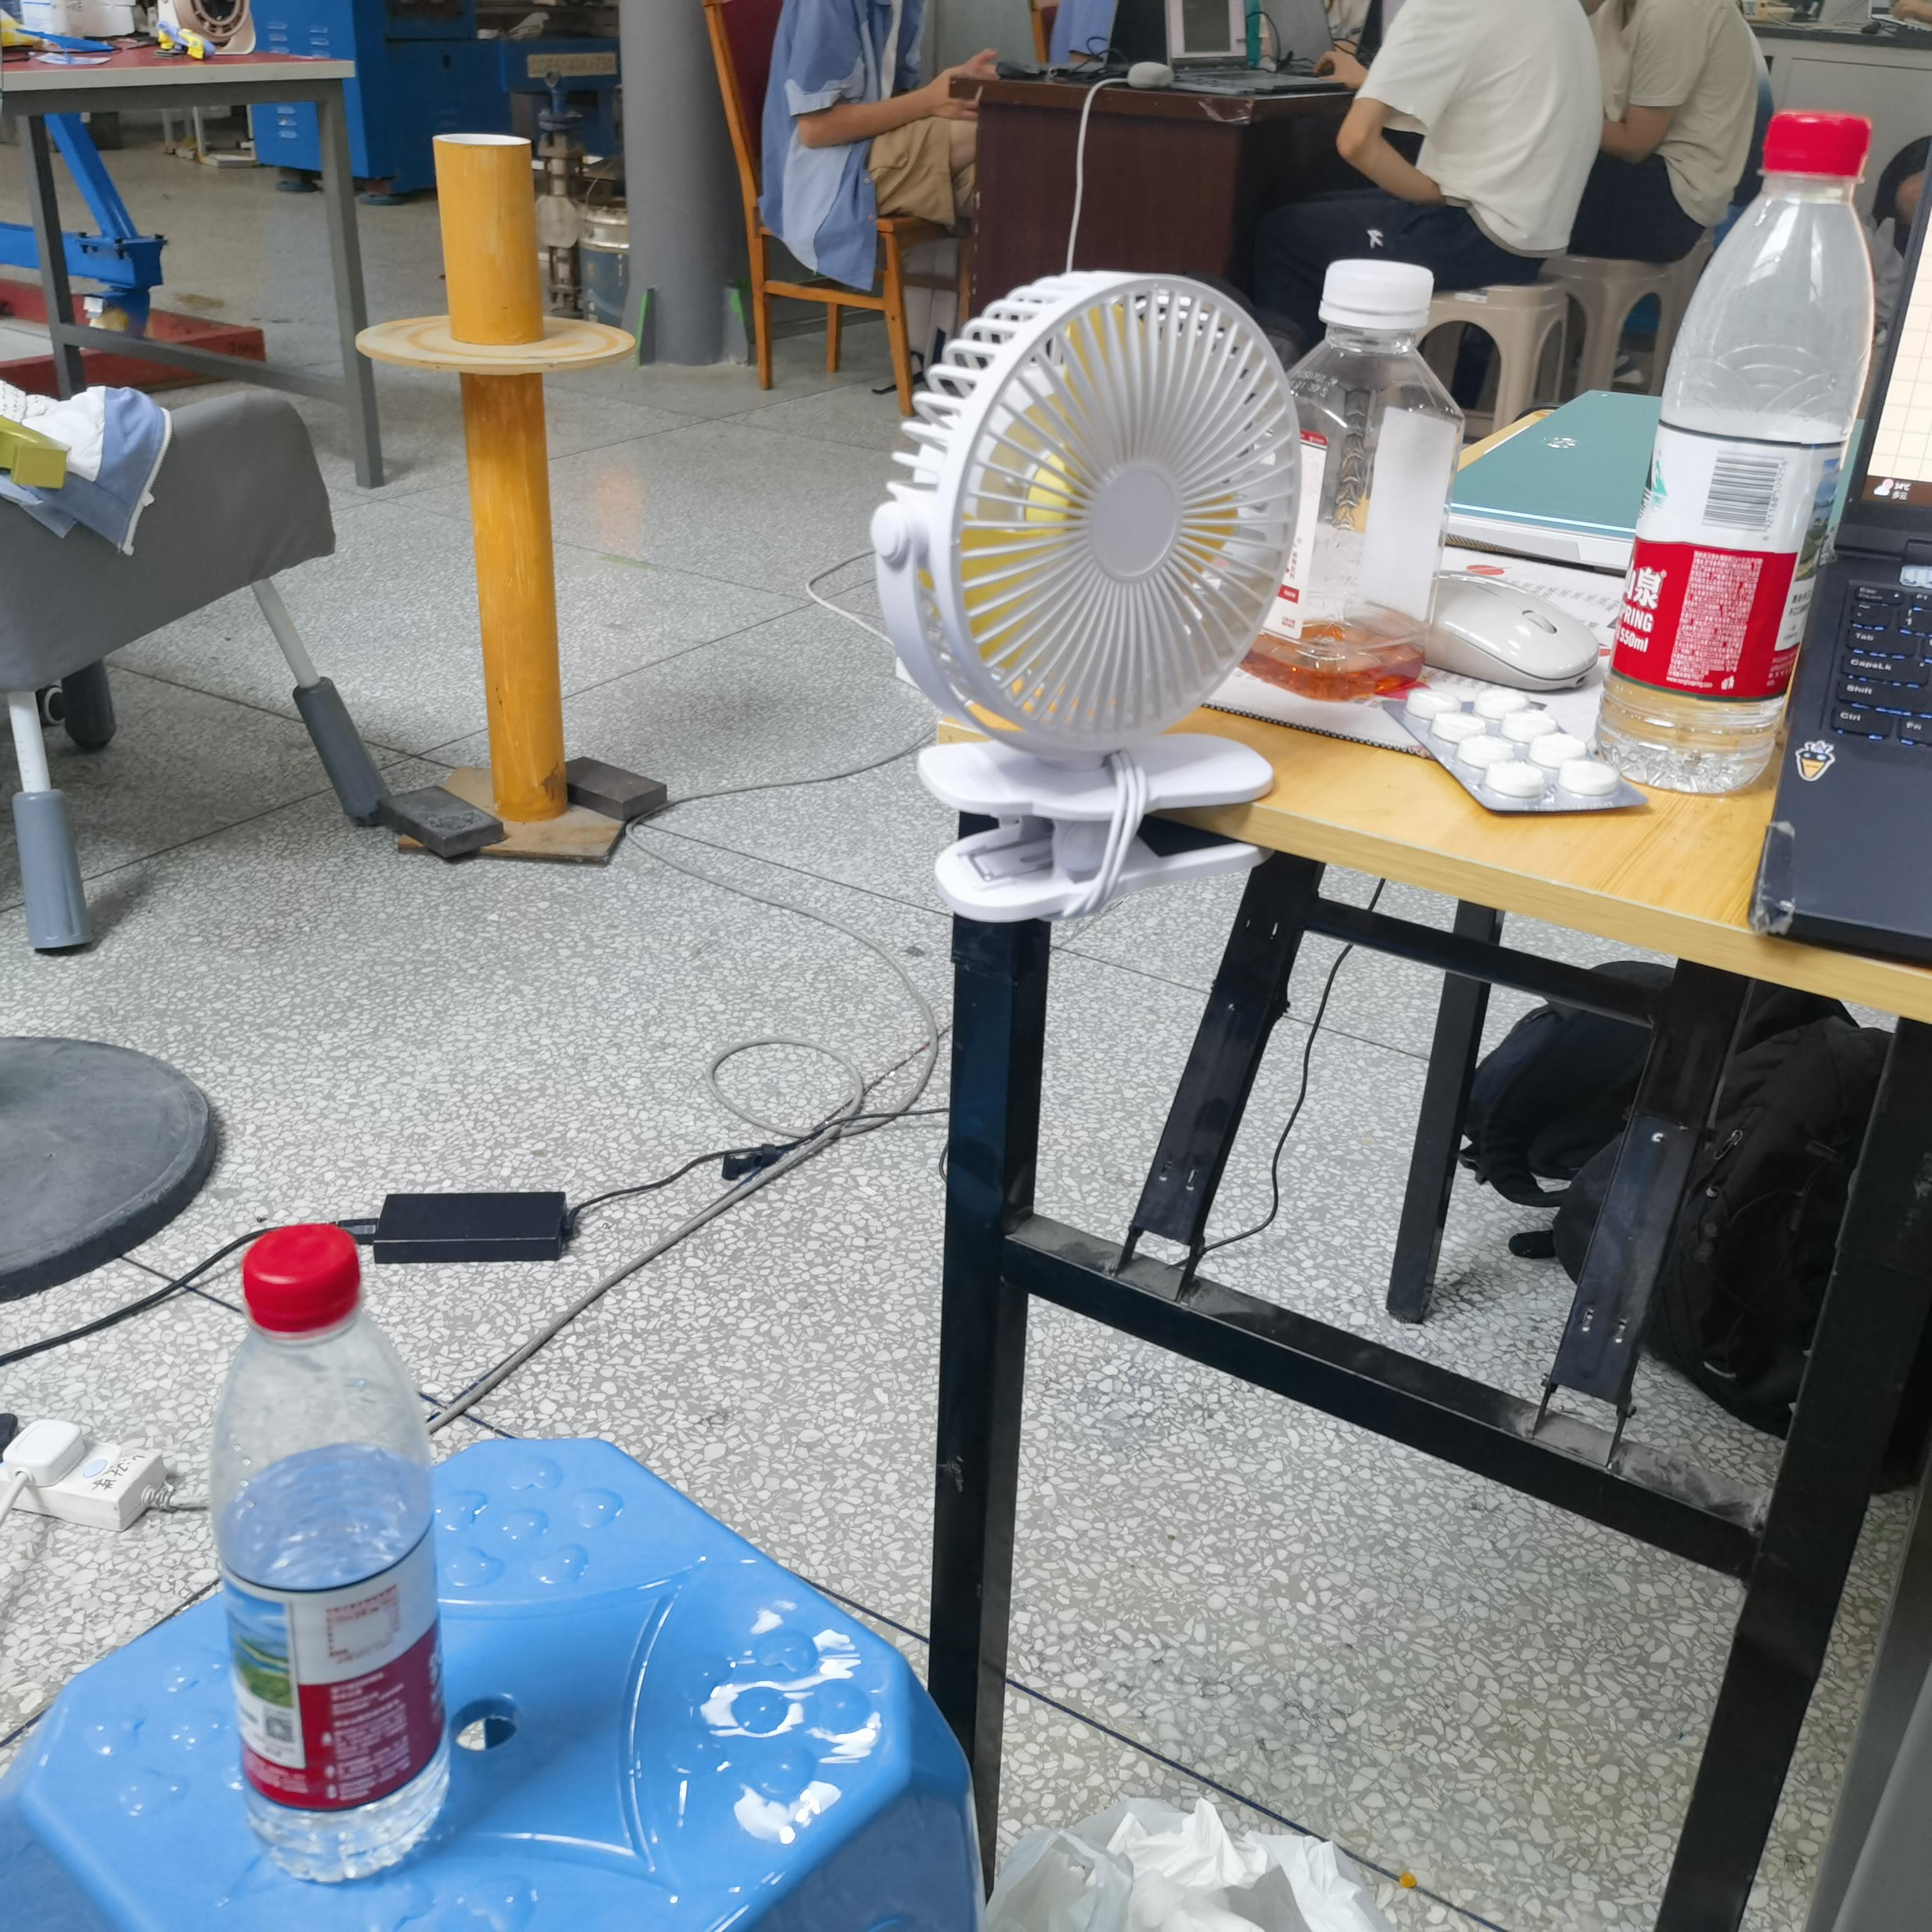bottle: (211, 1224, 449, 1882)
fan: (870, 271, 1300, 920)
